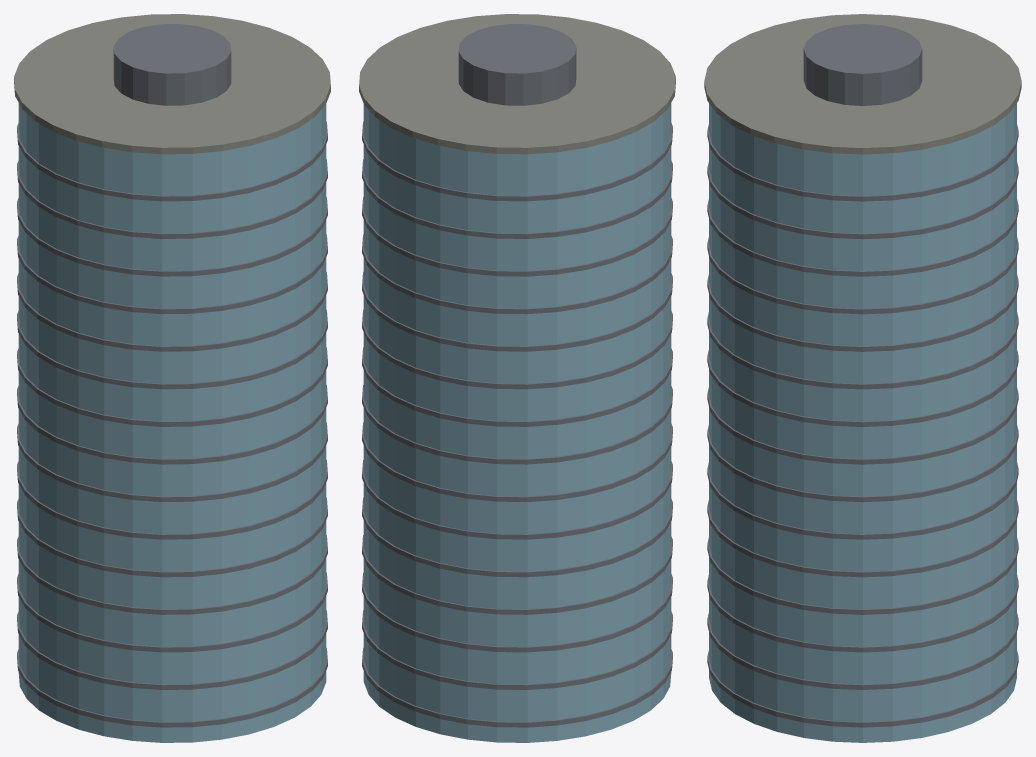
File: TorreCilindrica.obj
The picture shows the model from 3 angles, left to right: view 1: azimuth 30°, elevation 25°; view 2: azimuth 150°, elevation 25°; view 3: azimuth 270°, elevation 25°; orthographic projection.
Visible parts, largest first — view 1: TorreCilindrica; view 2: TorreCilindrica; view 3: TorreCilindrica.
Part boxes in pixels (x1,y1,x2,y2): TorreCilindrica: [14, 14, 330, 742]; TorreCilindrica: [359, 14, 675, 742]; TorreCilindrica: [704, 14, 1021, 742].
Bounding box in the file's own units: 26.8 × 58.6 × 26.8.
